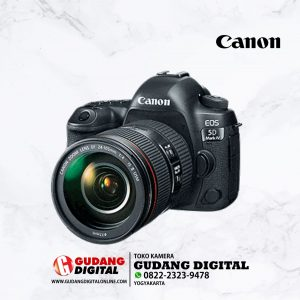kamera: (46, 68, 248, 249)
